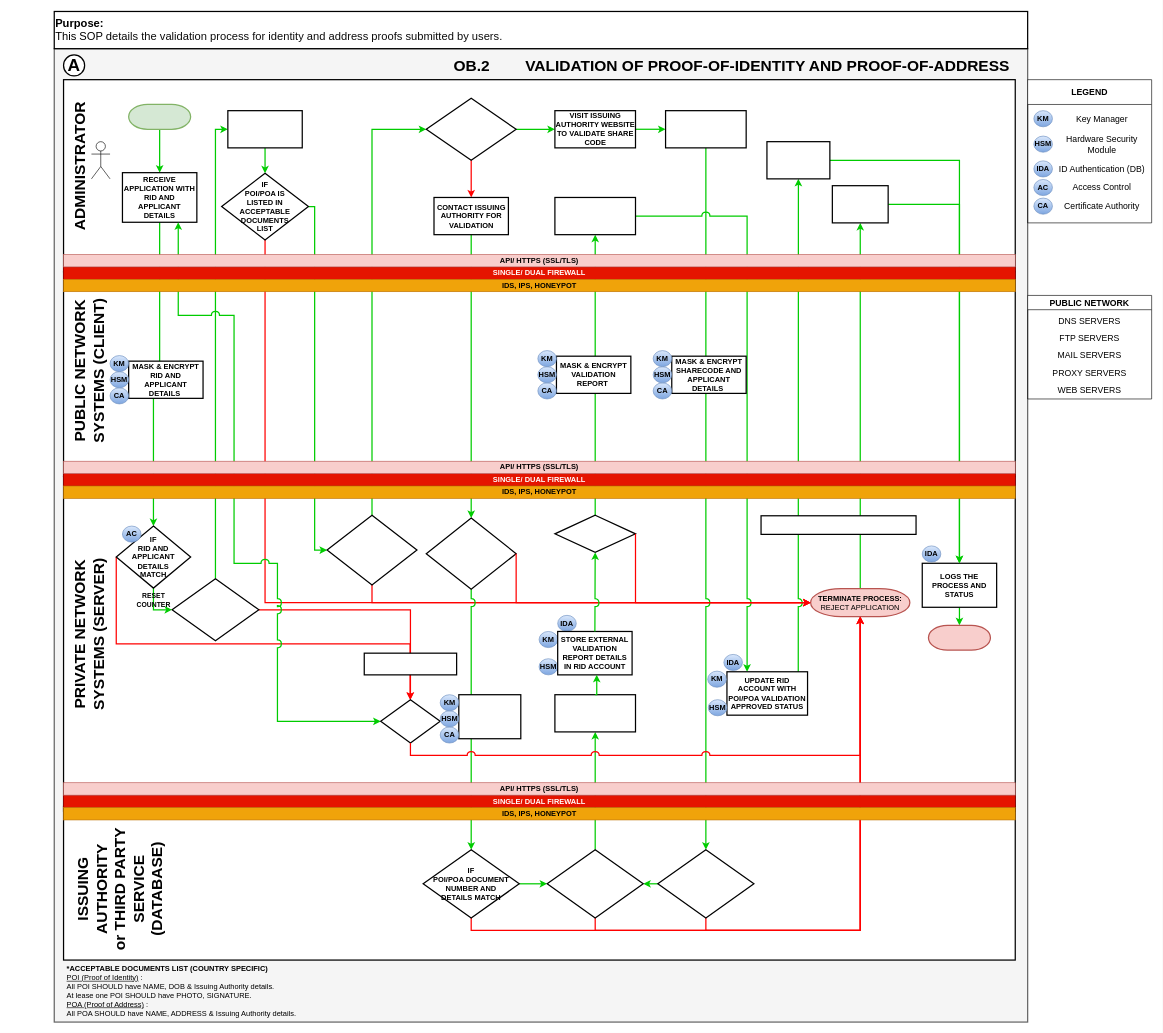
The diagram is 1163 pixels wide and 1033 high, and some of its shapes have lost their labels. The centre of each missing label's shape, as x and y in pixels:
ADMIN: the point at 100,160
CONFIRMS VALIDATION SUCCESS: the point at 595,216
END: the point at 959,637
ENTERS POI/POA DOCUMENT NUMBER AND DETAILS WITH SHARECODE: the point at 705,129
EXCEPTION AND ERROR HANDLING (COUNTER): the point at 410,663
IF COLLECTION AND RESOLUTION IS COMPLETE: the point at 215,609
IF POI/POA IS NOT EXPIRED MORE THAN THREE MONTHS: the point at 371,549
IF POI/POA NOT IN LOST or THEFT DOCUMENT DATABASE: the point at 595,883
IF POI/POA SCAN COPY MATCHES WITH ID TEMPLATE LIBRARY: the point at 470,553
IF RETRY COUNT <=3: the point at 410,721
IF SHARE CODE IS PROVIDED BY APPLICANT: the point at 470,129
IF SHARECODE AND POI/POA DOCUMENT DEATILS MATCH: the point at 705,883
IF VALIDATION SUCCESS: the point at 595,533
INITIATE POI/POA VALIDATION: the point at 265,129
MASK & ENCRYPT POI/POA DETAILS: the point at 489,716
NOTIFICATION GENERATOR: the point at 838,525
RECEIVE APPLICATION REJECTED STATUS: the point at 859,204
RECEIVE VALIDATION APPROVED STATUS: the point at 798,160
RECEIVE VALIDATION REPORT: the point at 595,713
START (ONLINE): the point at 159,117
